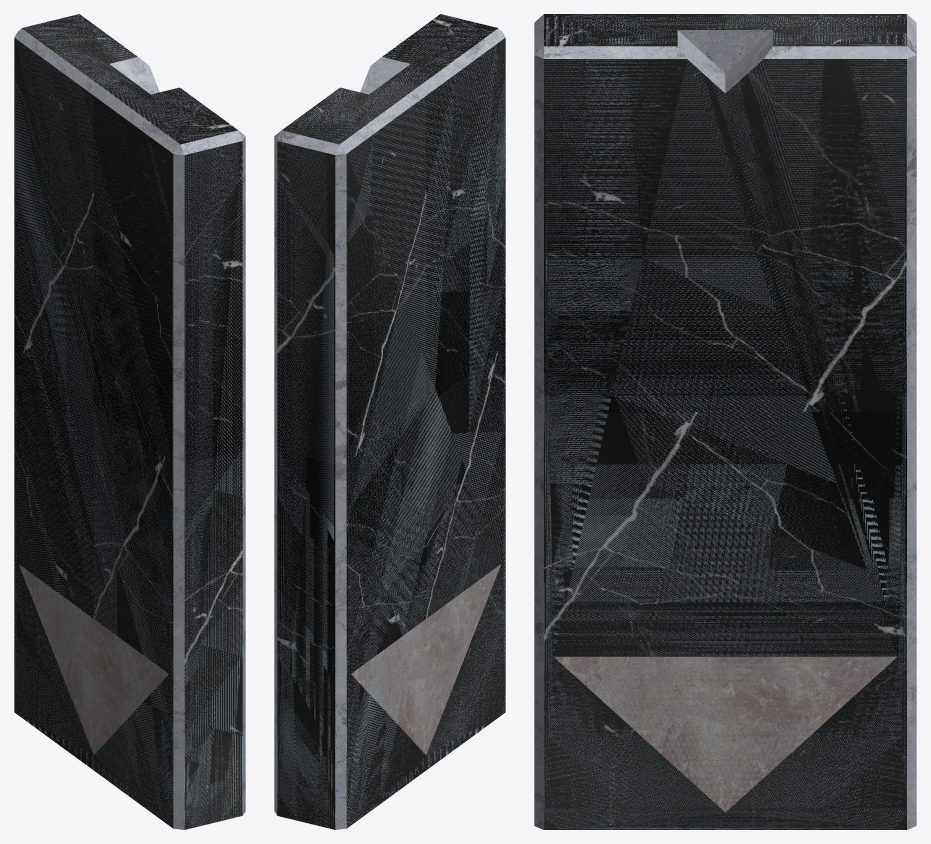
The model's file is link_intel_body.dae.
3 renders of one model, left to right at view 1: azimuth 30°, elevation 25°; view 2: azimuth 150°, elevation 25°; view 3: azimuth 270°, elevation 25°, orthographic. The views are drawn at different scales.
Visible parts, largest first — view 1: SketchUp (×4); view 2: SketchUp (×4); view 3: SketchUp (×4).
Part boxes in pixels (left/top/right/bottom): SketchUp (×4): left=14, top=14, right=245, bottom=829; SketchUp (×4): left=274, top=14, right=505, bottom=829; SketchUp (×4): left=534, top=14, right=916, bottom=829.
Bounding box in the file's own units: 9.84 × 39.37 × 88.58.
Materials: 4 (3 with a texture image).
